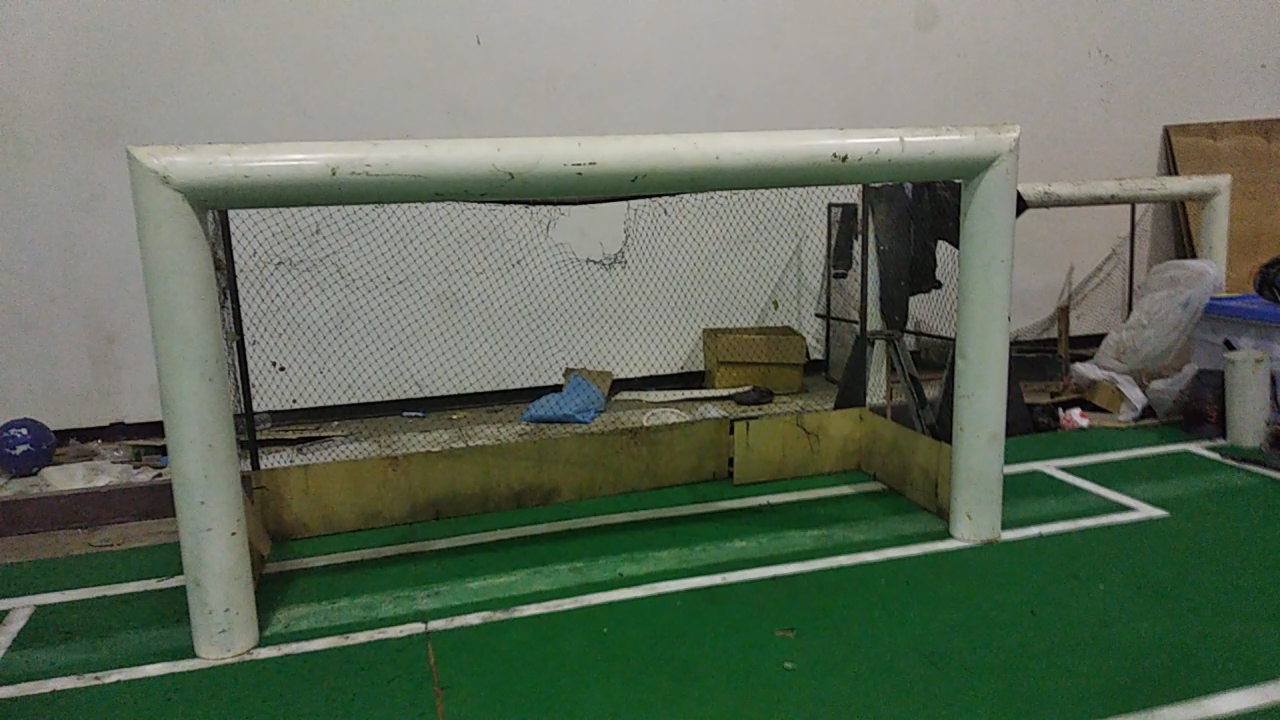gawang: (112, 89, 1036, 674)
